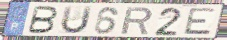2: (154, 6, 183, 37)
6: (93, 6, 120, 35)
B: (26, 5, 60, 35)
E: (182, 7, 218, 36)
R: (119, 6, 154, 35)
U: (59, 5, 94, 35)
